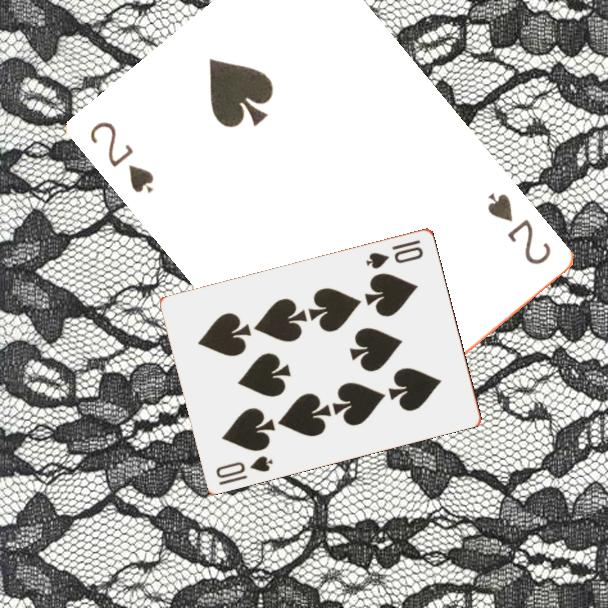s02: (87, 117, 158, 197), (484, 189, 555, 268)
s10: (212, 452, 276, 488), (363, 236, 426, 271)
